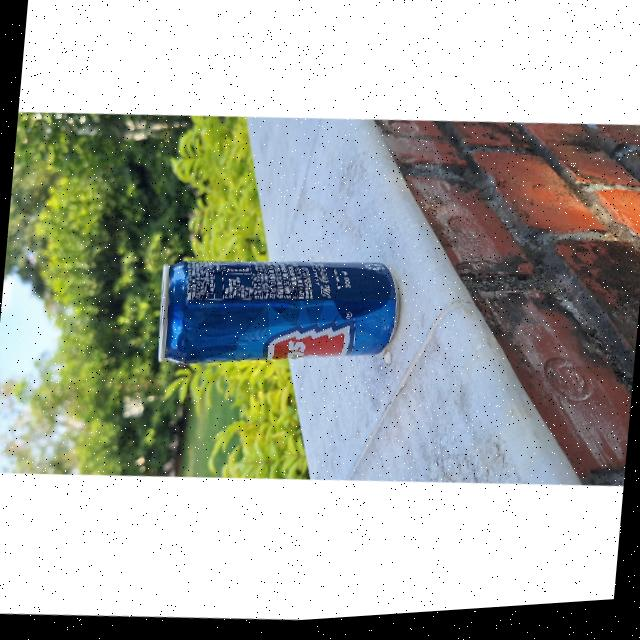Thums Up: (150, 237, 402, 396)
